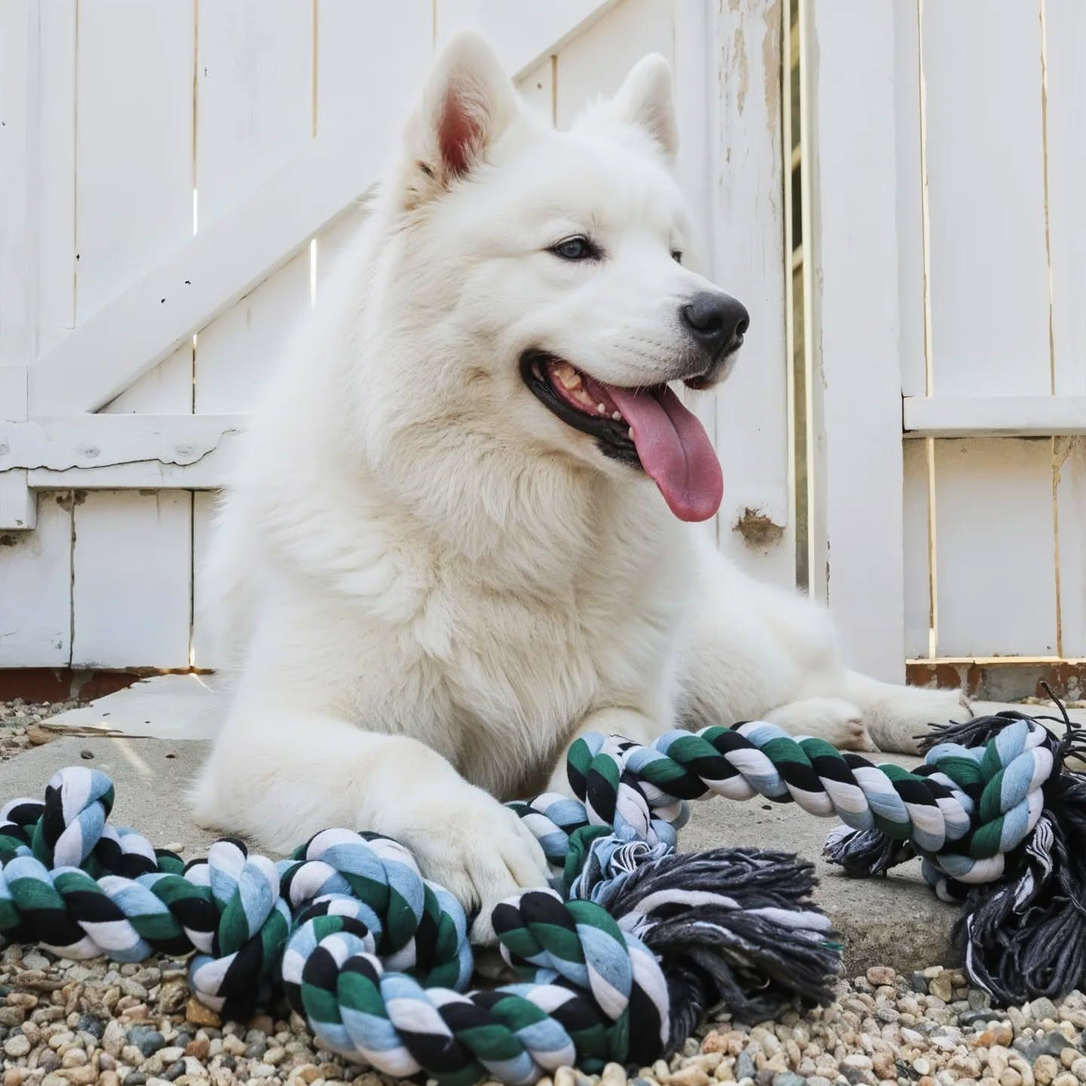adult_dog: (187, 29, 995, 950)
